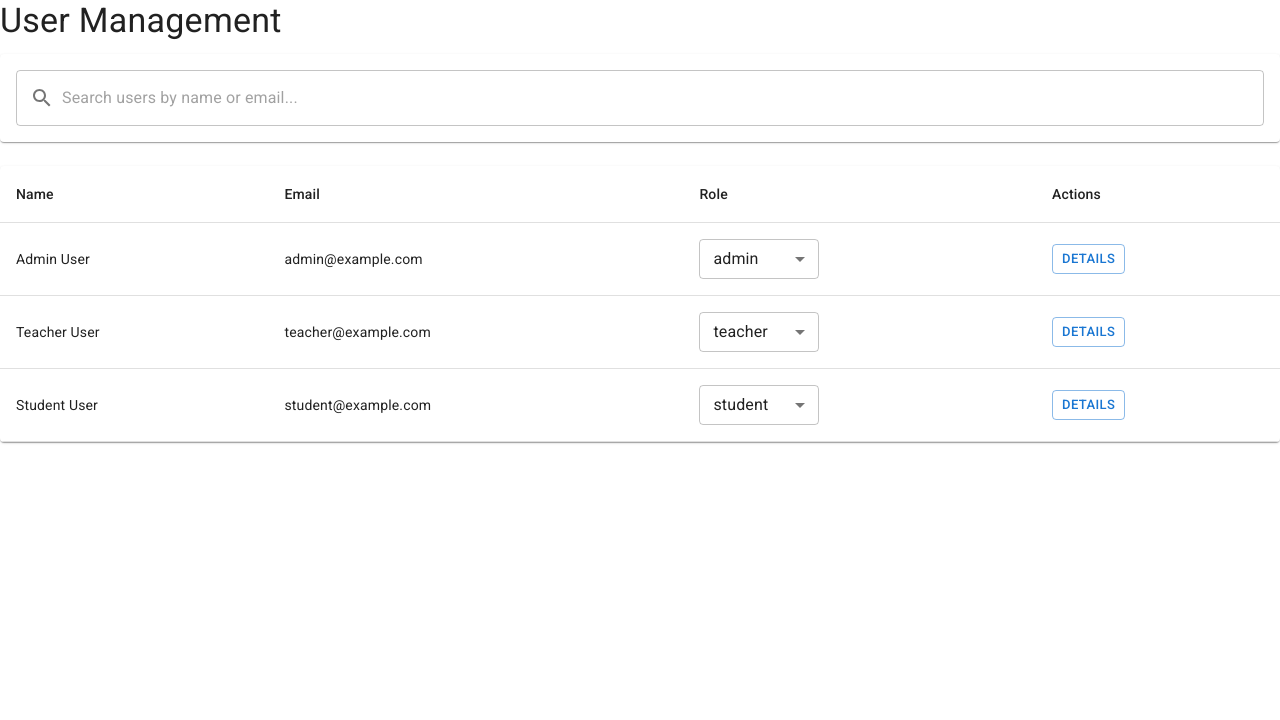
Test: UserManagement Component › updates user role when confirmed
Expected: the text "Teacher User" is shown, [0,295,268,368]
Change the role
Press the mouse on the dropdown labelled "teacher" at (741, 332), box [713,322,768,341]
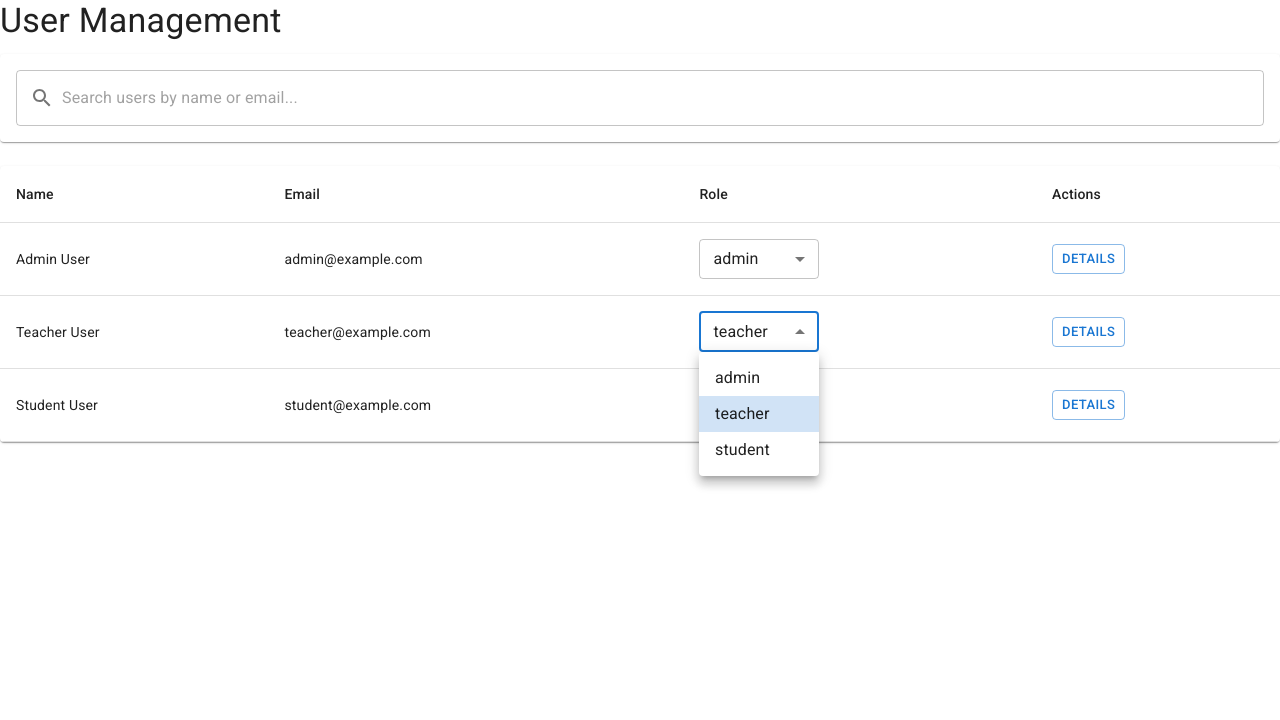
Click the option "admin" at (738, 378), box [715,368,760,387]
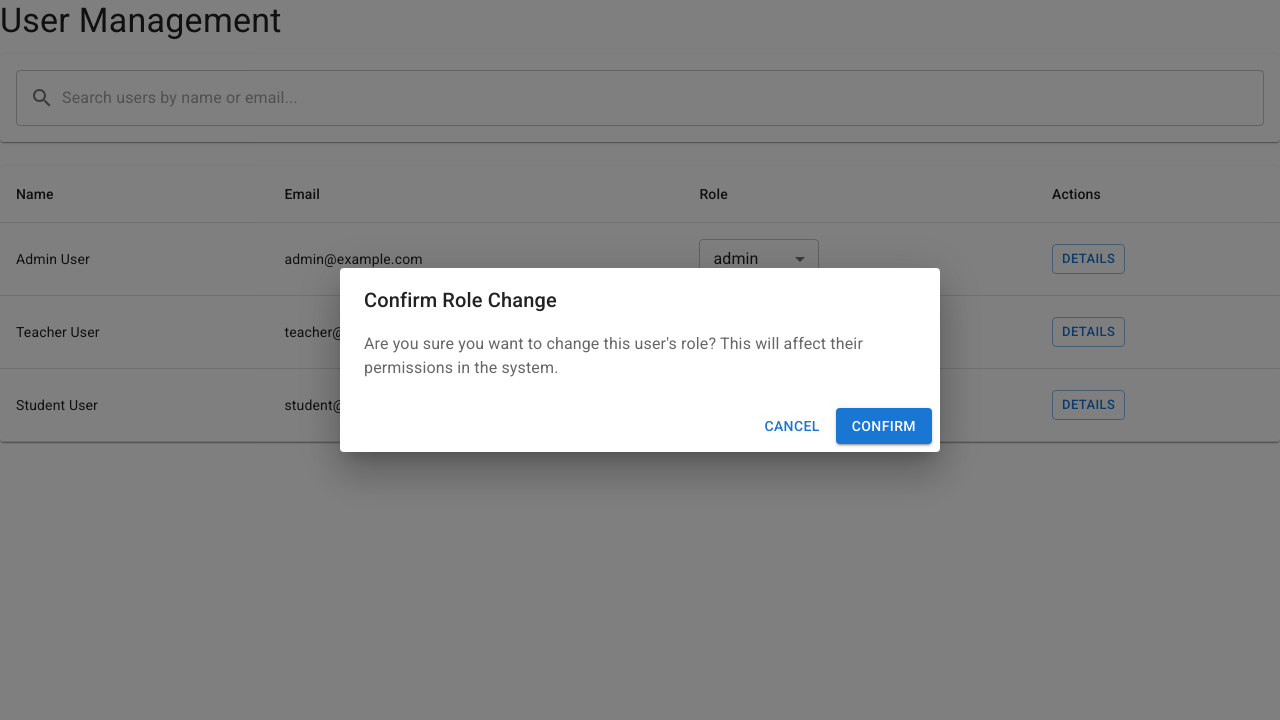
Confirm the change
Click the button "Confirm" at (884, 426), box [836,408,932,444]
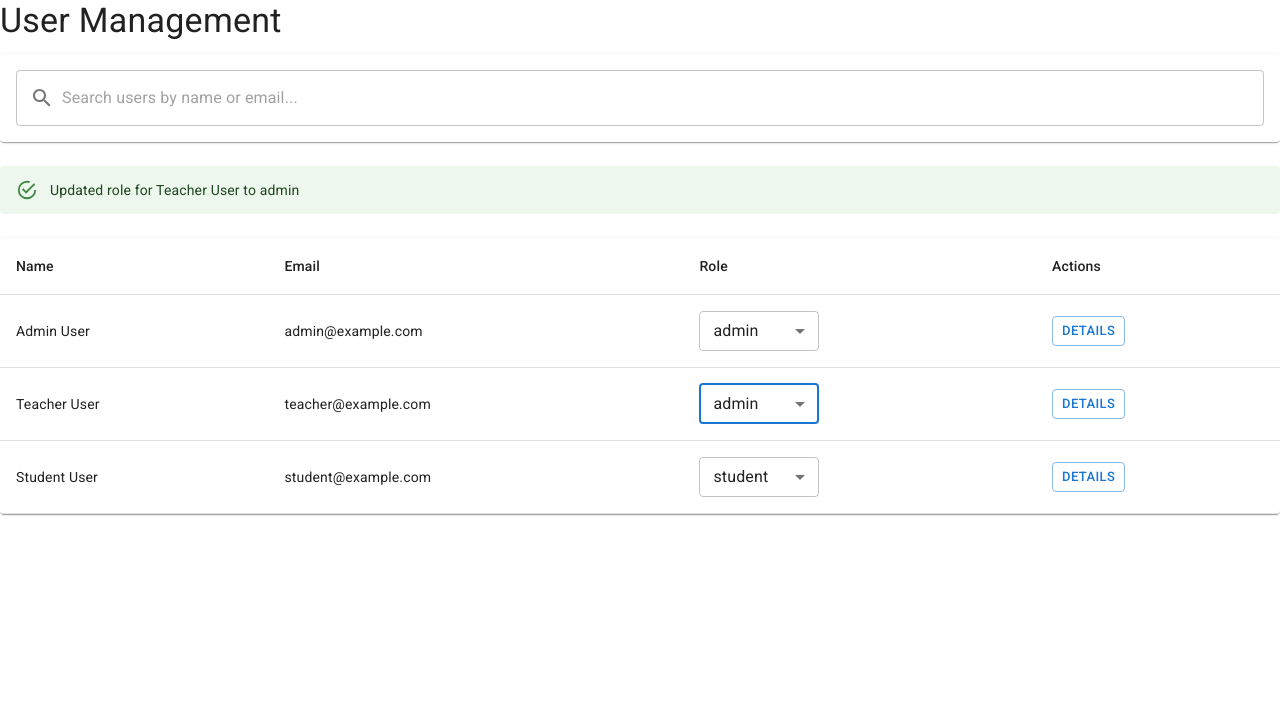
Expected: the text "Updated role for Teacher User to admin" is shown, [50,182,299,198]
